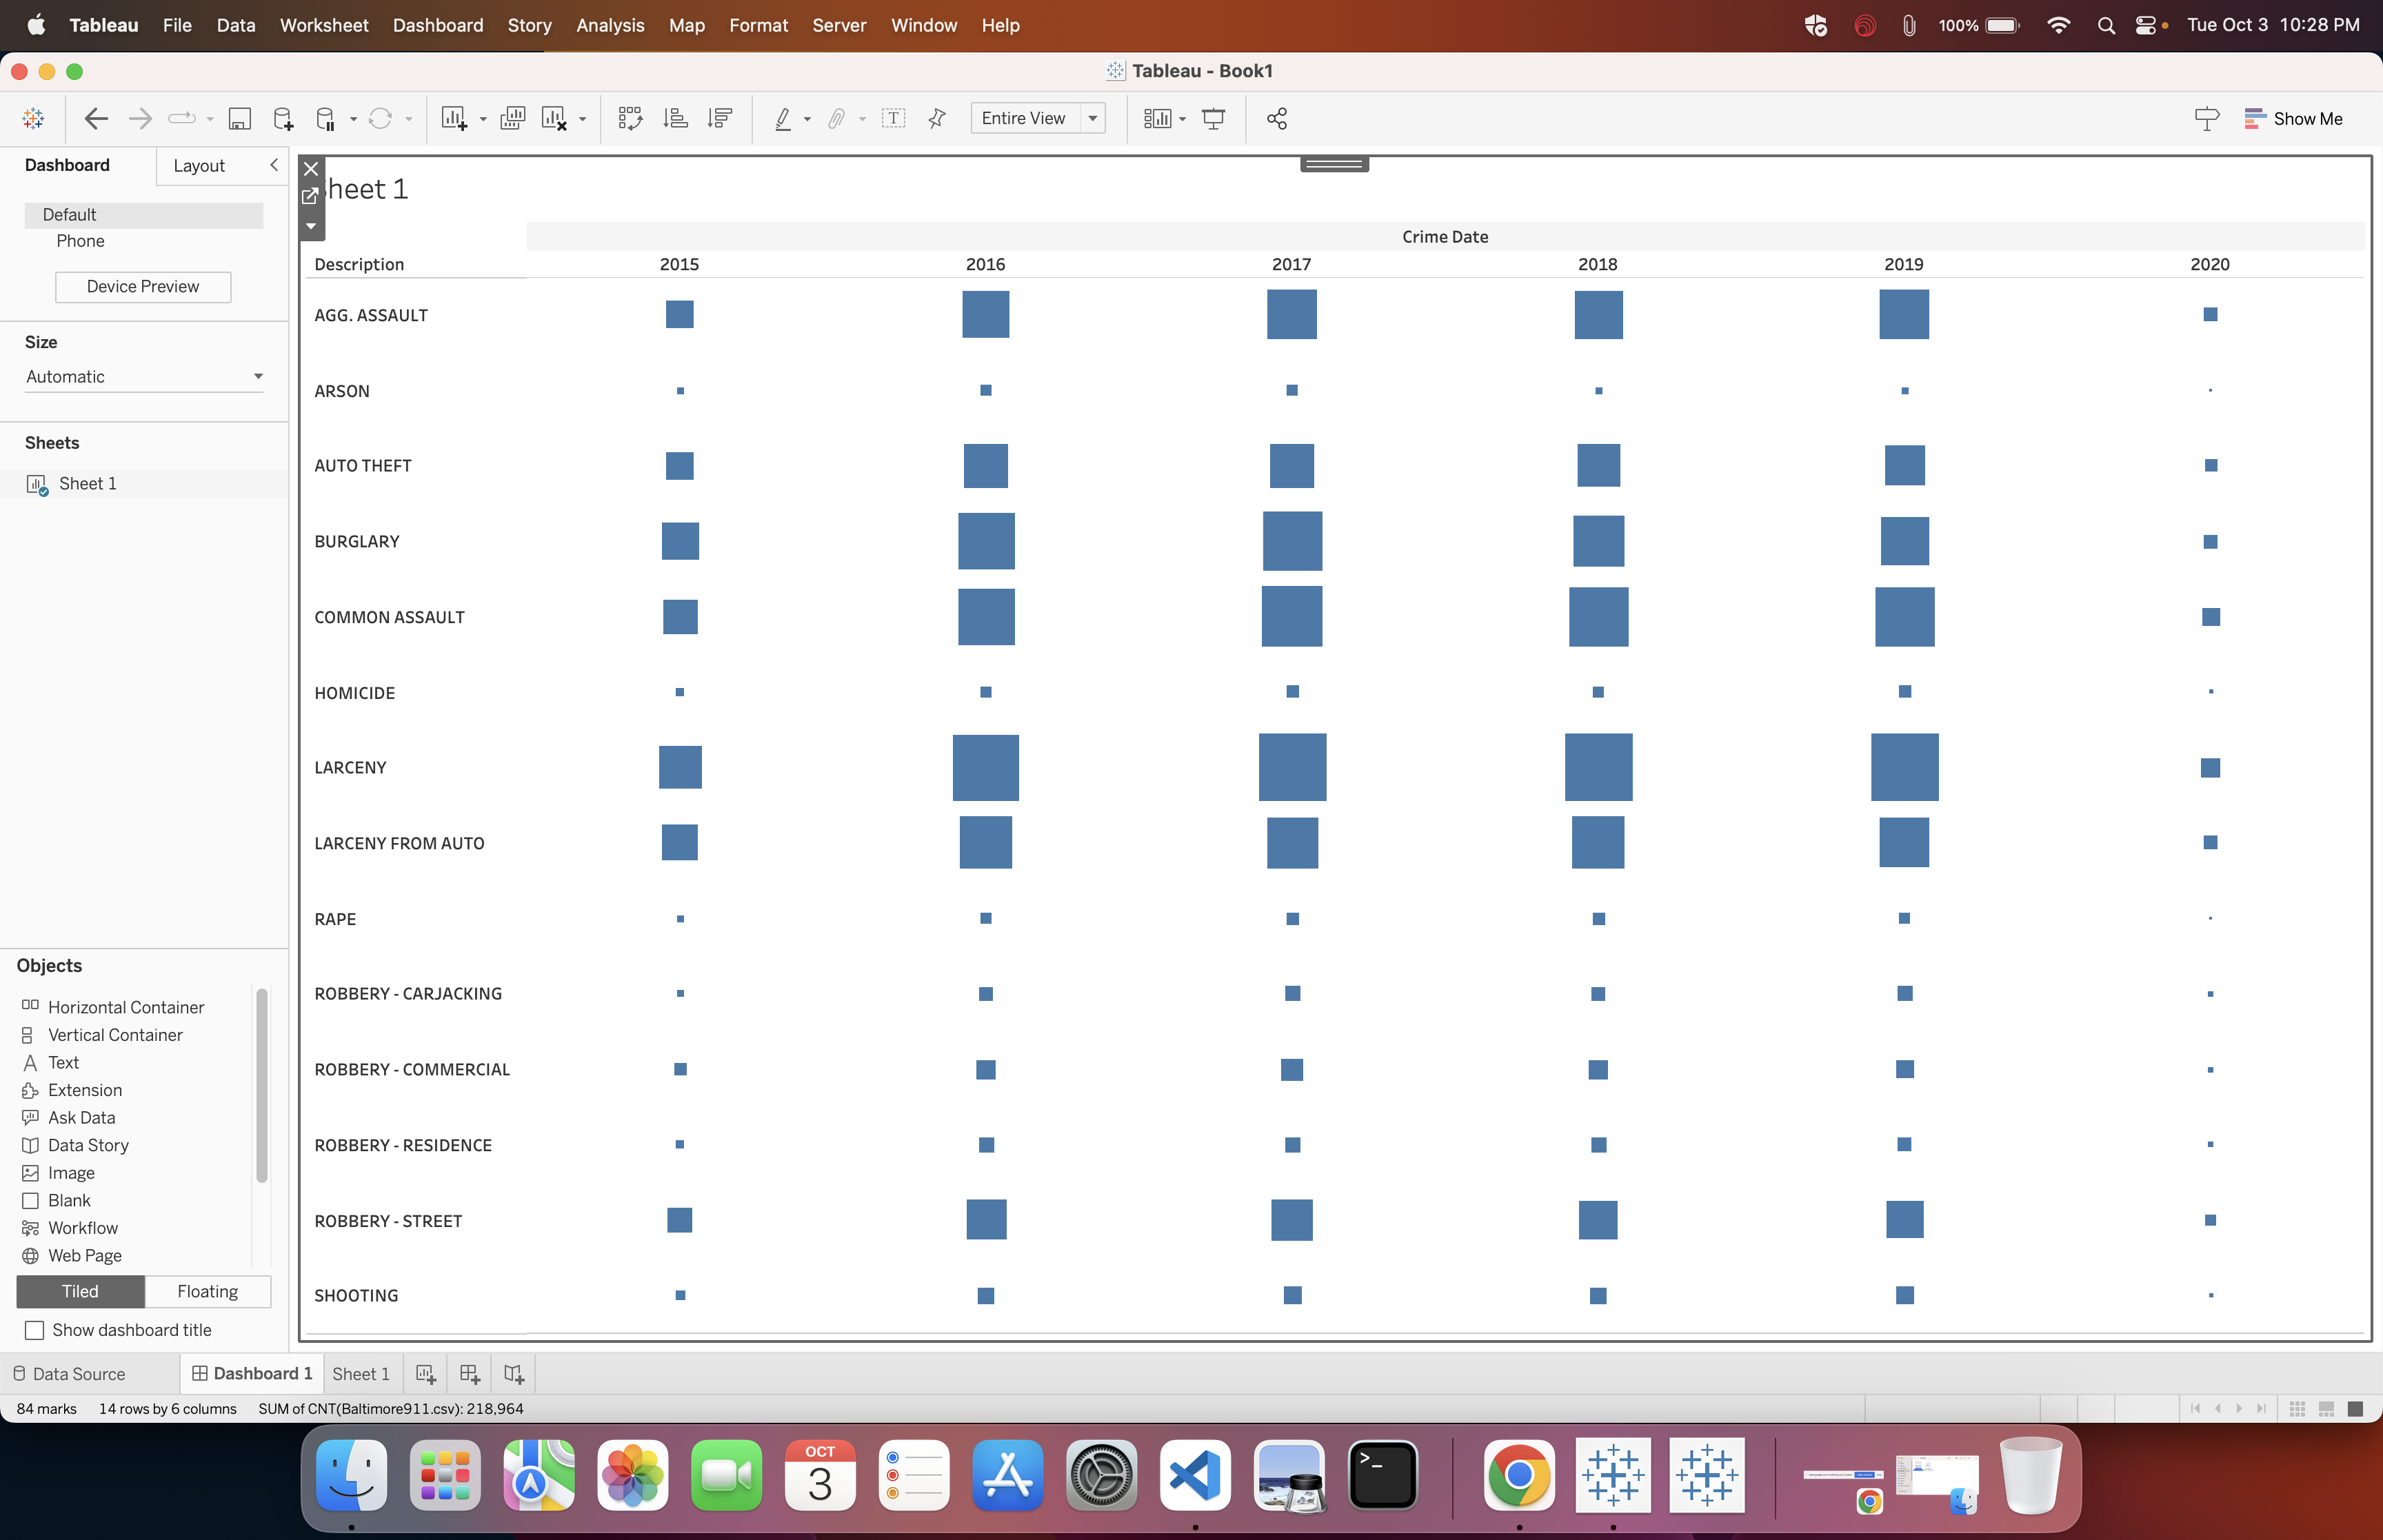

Layout of this report page (visuals, bound fields, positions):
{"tool":"tableau","page":{"name":"Dashboard 1","canvas":[1000,1000],"units":"permille","ordinal":0},"visuals":[{"type":"worksheet","title":"Sheet 1","mark":"Circle","rows":["Baltimore911.csv_D21EA5A1DF394CF2B379596E421D5C13"],"cols":["CrimeDate"],"box":[5.3,9.2,989.5,981.7]}]}

Visuals, with their boxes on the dashboard's canvas, which has no fixed pixel size, in thousandths of its width and height (x1, y1, x2, y2). These are canvas units, not pixel positions in the 2383x1540 screenshot, which may show the page scaled, cropped or inside an application window:
"Sheet 1" worksheet (Circle marks): region(5, 9, 995, 991)
